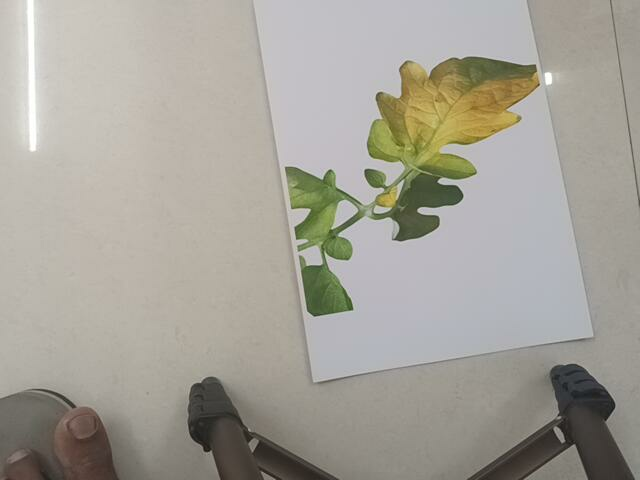Tomamto_Yellow_Disease: (295, 53, 545, 323)
